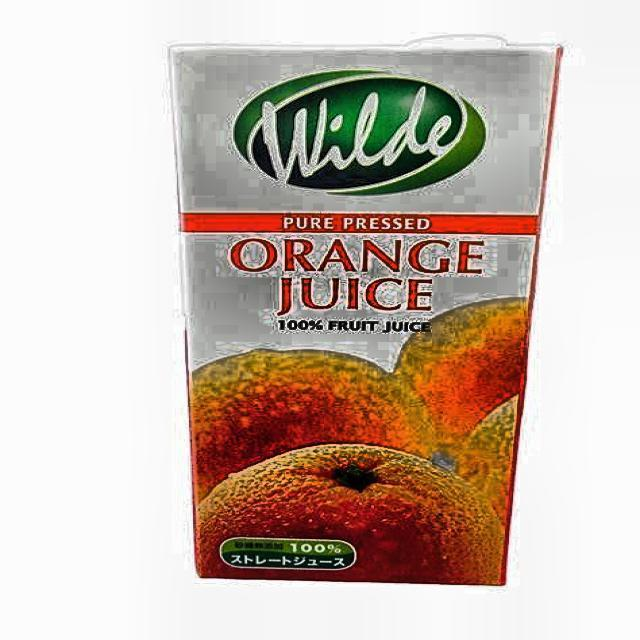cardboard: (168, 38, 564, 586)
